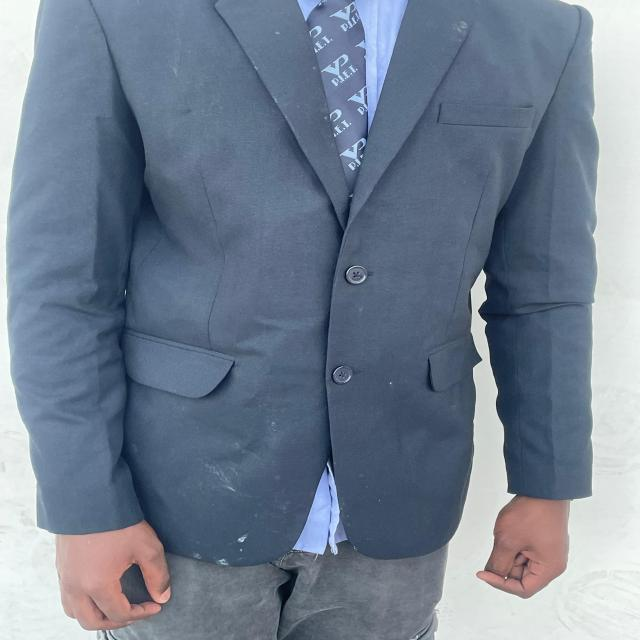Tie: (305, 0, 368, 196)
uniform: (9, 7, 622, 544)
